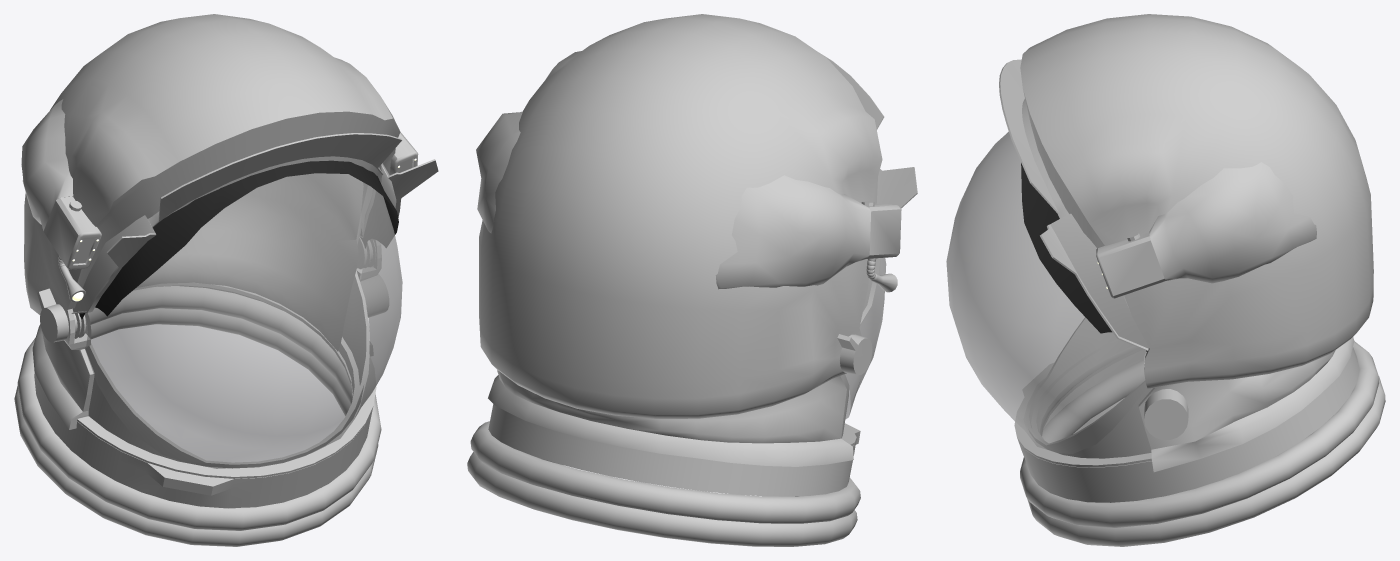
The picture shows the model from 3 angles, left to right: view 1: azimuth 30°, elevation 25°; view 2: azimuth 150°, elevation 25°; view 3: azimuth 270°, elevation 25°; orthographic projection. The views are drawn at different scales.
Parts seen in each view (by area): view 1: Helmet-Body, Black-one_Standard_14_0; view 2: Helmet-Body; view 3: Helmet-Body, Black-one_Standard_14_0.
Boxes of the visible parts, x1=… form: Helmet-Body: x1=14, y1=14, x2=438, y2=546; Black-one_Standard_14_0: x1=79, y1=160, x2=398, y2=318; Helmet-Body: x1=467, y1=14, x2=917, y2=546; Helmet-Body: x1=946, y1=14, x2=1385, y2=546; Black-one_Standard_14_0: x1=1021, y1=163, x2=1147, y2=351.
Size of the model in its own units: 29.92 by 37.87 by 31.84.
